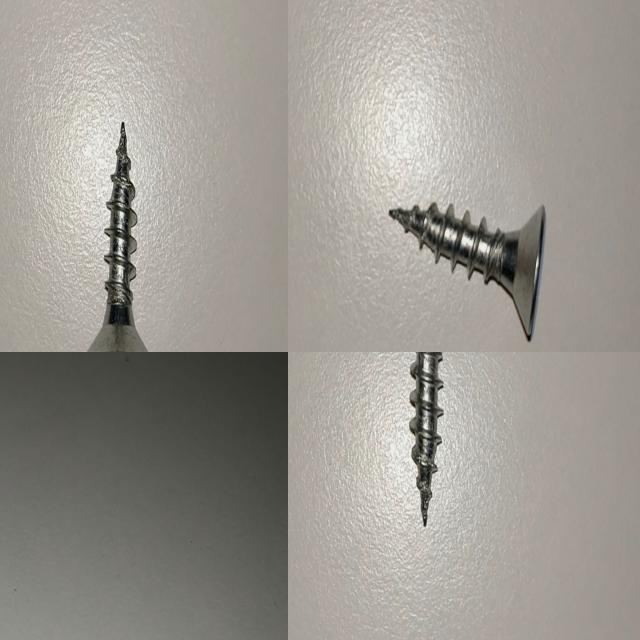Screw: (389, 202, 546, 339), (87, 121, 149, 352), (409, 352, 443, 526)
